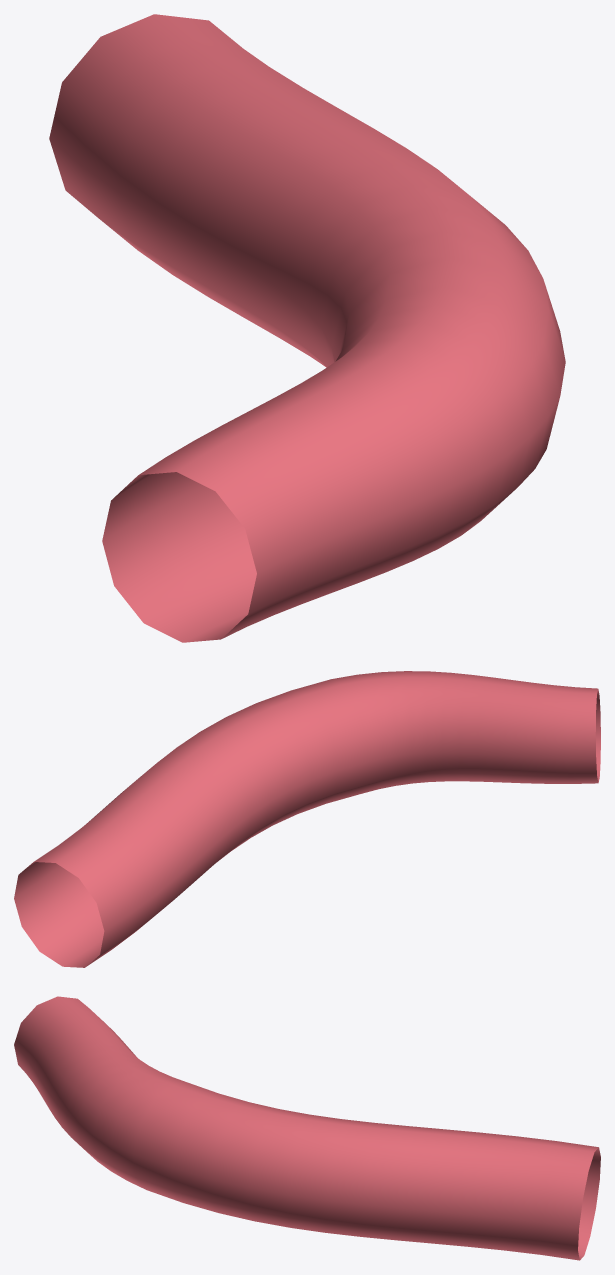
3 views of the same model, one above another, from view 1: azimuth 30°, elevation 25°; view 2: azimuth 150°, elevation 25°; view 3: azimuth 270°, elevation 25° (orthographic). The views are drawn at different scales.
Visible parts, largest first — view 1: ZA_23dc5e82463d5e40; view 2: ZA_23dc5e82463d5e40; view 3: ZA_23dc5e82463d5e40.
Part boxes in pixels (bbox=[...]): ZA_23dc5e82463d5e40: bbox=[49, 14, 565, 642]; ZA_23dc5e82463d5e40: bbox=[14, 671, 600, 967]; ZA_23dc5e82463d5e40: bbox=[14, 996, 600, 1260].
Bounding box in the file's own units: 0.00649 × 0.00267 × 0.0102.
